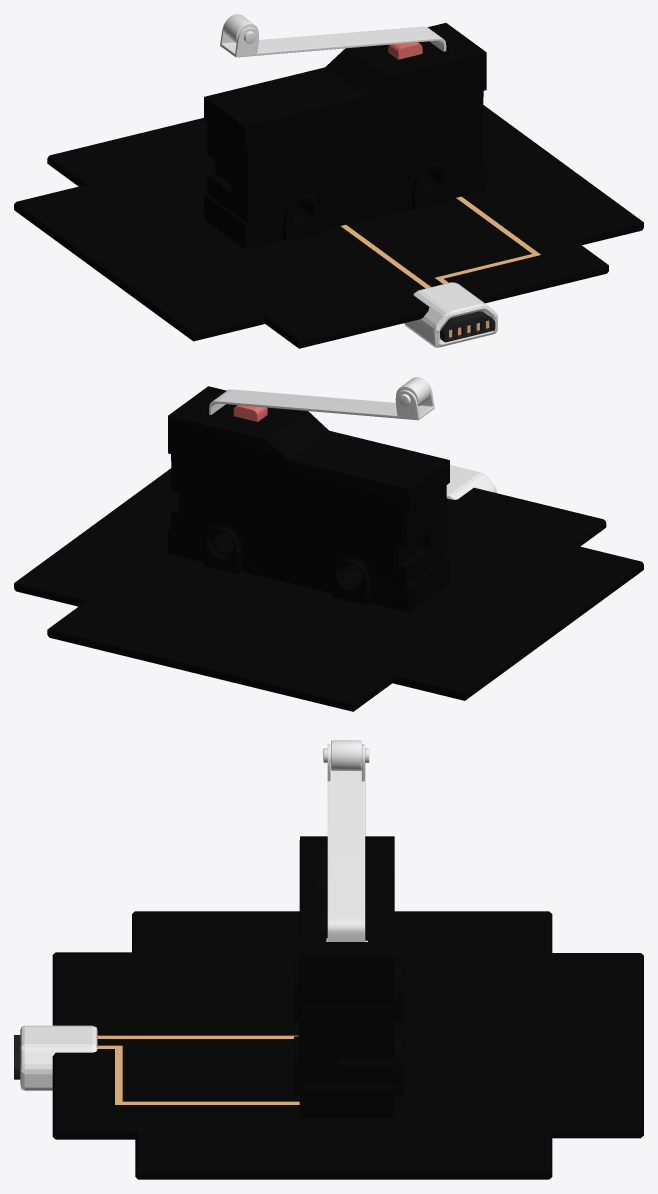
Rendered from anim.Switch.glb.
The picture shows the model from 3 angles, top to bottom: view 1: azimuth 30°, elevation 25°; view 2: azimuth 150°, elevation 25°; view 3: azimuth 270°, elevation 25°; orthographic projection. The views are drawn at different scales.
Visible parts, largest first — view 1: touch switch complete chip, touch switch front cap; view 2: touch switch complete chip, touch switch front cap; view 3: touch switch complete chip, touch switch front cap.
Part boxes in pixels (<box>): touch switch complete chip: <box>14,14,643,348</box>; touch switch front cap: <box>225,38,486,249</box>; touch switch complete chip: <box>14,377,643,711</box>; touch switch front cap: <box>190,386,449,596</box>; touch switch complete chip: <box>14,740,643,1179</box>; touch switch front cap: <box>294,836,345,1118</box>.
Bounding box in the file's own units: 0.0385 × 0.0196 × 0.0395.
